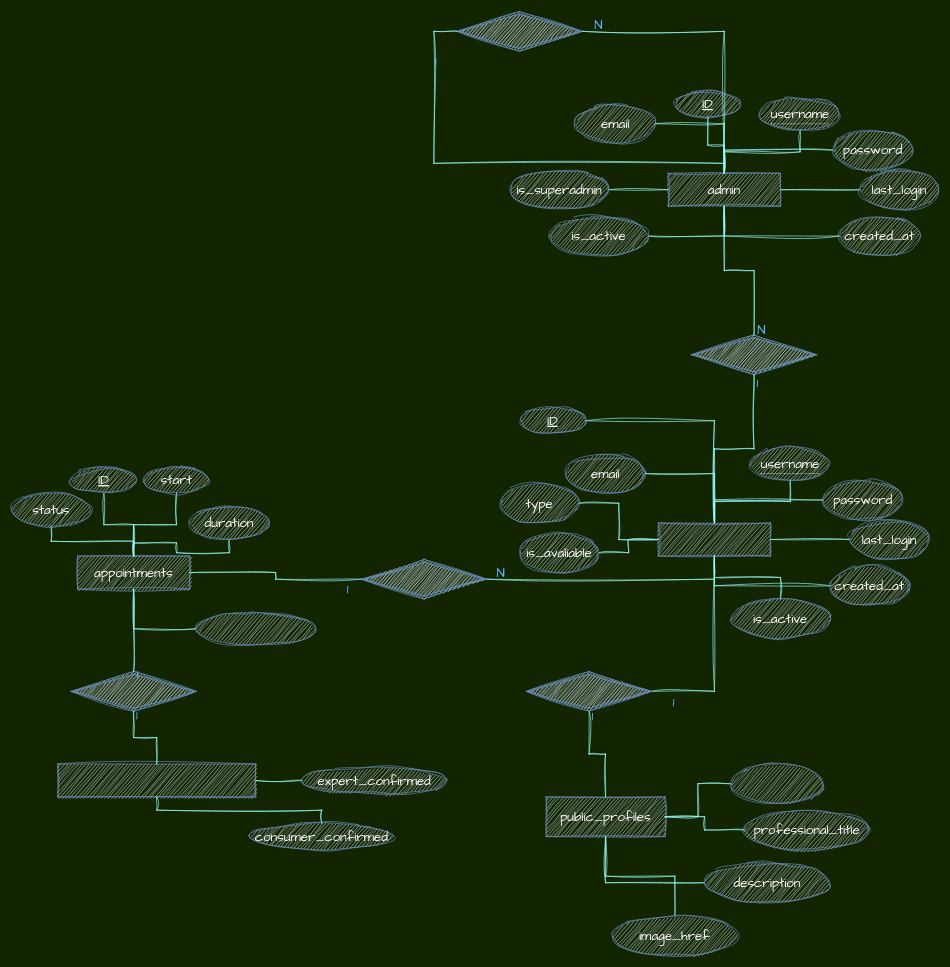
Image size: 950x967. Some labels were removed from this diagram. The shapes that lost their labels are listed below. From the top down, each one's box as (x1, y1, x2, y2) in pixels, then its label:
(456, 11, 582, 51): creates
(691, 334, 817, 375): registers
(658, 522, 771, 556): experts
(361, 559, 487, 599): is_schedule_for
(196, 611, 315, 645): consumer_email
(70, 671, 196, 711): Confirms
(526, 671, 652, 711): Presents
(57, 763, 256, 797): appointments_confirmations
(730, 763, 823, 804): public_name
